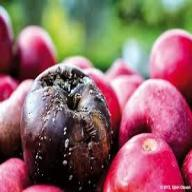apple: (24, 72, 112, 182)
